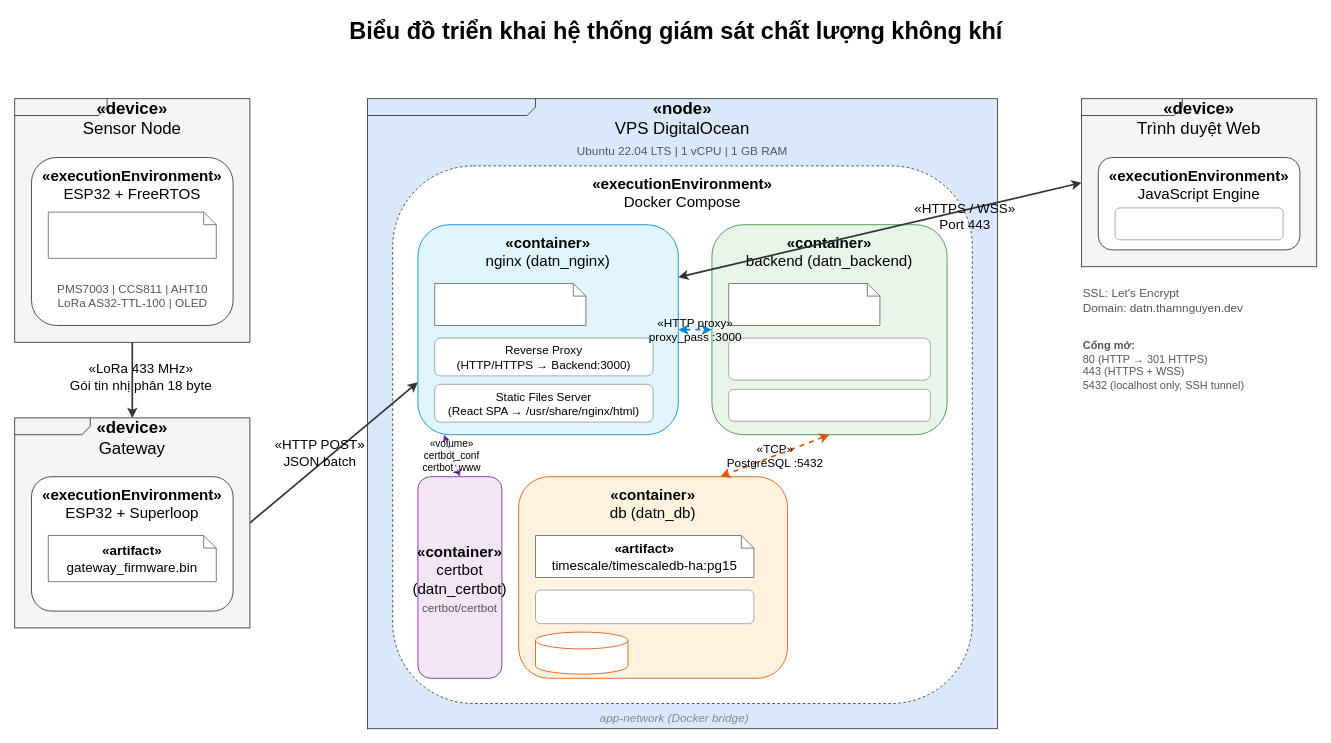
Some shapes in this 1331 by 743 pixel diagram are drawn without their labels. The shapes that lost their labels are listed below. From the top down, each one's centre as x and y in pixels, then its label:
At point 131,234: "«artifact» sensor_firmware.bin".
At point 1198,223: "React 19 SPA".
At point 510,304: "«artifact» nginx:alpine".
At point 804,304: "«artifact» node:22-alpine".
At point 829,358: "Express 4.21 REST API + Socket.IO (Port 3000)".
At point 829,404: "Prisma ORM 7.5".
At point 644,606: "PostgreSQL 15 + TimescaleDB + PostGIS".
At point 581,652: "«volume» pg_data".
